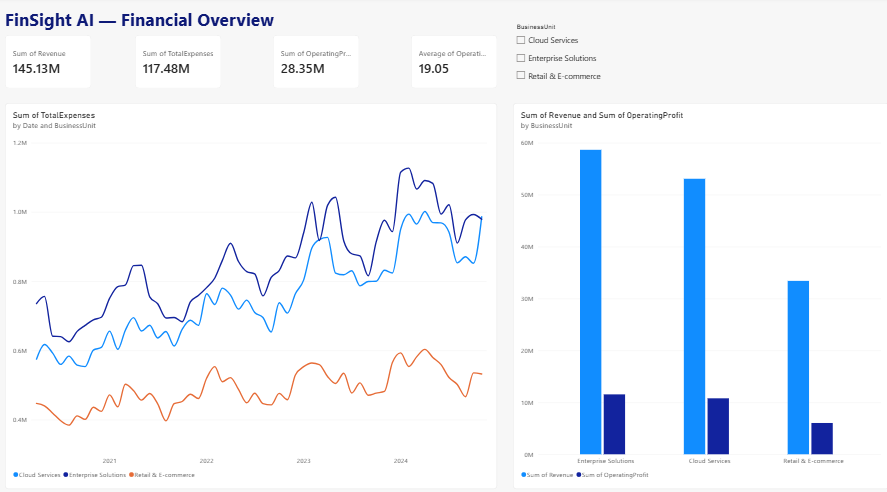

The page's visual inventory and layout, read from the dashboard file:
{"tool":"powerbi","page":{"name":"financial overview","canvas":[1920,1080],"ordinal":0},"visuals":[{"type":"textbox","box":[10,0,280,280],"z":0},{"type":"textbox","box":[10,290,280,280],"z":1000},{"type":"textbox","box":[10.8,21.6,1155.6,67],"z":2000},{"type":"cardVisual","fields":{"Data":["Sum(finsight_master_analytics.Revenue)"]},"box":[10.8,82.1,186.5,115.9],"z":3000},{"type":"cardVisual","fields":{"Data":["Sum(finsight_master_analytics.TotalExpenses)"]},"box":[291.6,82.1,186.5,115.9],"z":4000},{"type":"cardVisual","fields":{"Data":["Sum(finsight_master_analytics.OperatingProfit)"]},"box":[589.7,82.1,186.5,115.9],"z":5000},{"type":"cardVisual","fields":{"Data":["Avg(finsight_master_analytics.OperatingMargin_Lag1)"]},"box":[887.8,82.1,186.5,115.9],"z":6000},{"type":"lineChart","fields":{"Category":["finsight_master_analytics.Date"],"Series":["finsight_master_analytics.BusinessUnit"],"Y":["Sum(finsight_master_analytics.TotalExpenses)"]},"box":[10.8,229,1062.7,833.8],"z":7000},{"type":"clusteredColumnChart","fields":{"Category":["finsight_master_analytics.BusinessUnit"],"Y":["Sum(finsight_master_analytics.Revenue)","Sum(finsight_master_analytics.OperatingProfit)"]},"box":[1108.1,229,812.2,833.8],"z":8000},{"type":"slicer","fields":{"Values":["finsight_master_analytics.BusinessUnit"]},"box":[1108.1,56.2,812,150],"z":9000}]}

Visuals, with their boxes in screenshot pixels (x1, y1, x2, y2), scaled from the page's 1920x1080 canvas onto the 887x492 screenshot:
textbox: crop(5, 0, 134, 128)
textbox: crop(5, 132, 134, 260)
textbox: crop(5, 10, 539, 40)
cardVisual - Sum(finsight_master_analytics.Revenue): crop(5, 37, 91, 90)
cardVisual - Sum(finsight_master_analytics.TotalExpenses): crop(135, 37, 221, 90)
cardVisual - Sum(finsight_master_analytics.OperatingProfit): crop(272, 37, 359, 90)
cardVisual - Avg(finsight_master_analytics.OperatingMargin_Lag1): crop(410, 37, 496, 90)
lineChart - finsight_master_analytics.Date x finsight_master_analytics.BusinessUnit: crop(5, 104, 496, 484)
clusteredColumnChart - finsight_master_analytics.BusinessUnit x Sum(finsight_master_analytics.Revenue): crop(512, 104, 886, 484)
slicer - finsight_master_analytics.BusinessUnit: crop(512, 26, 886, 94)
